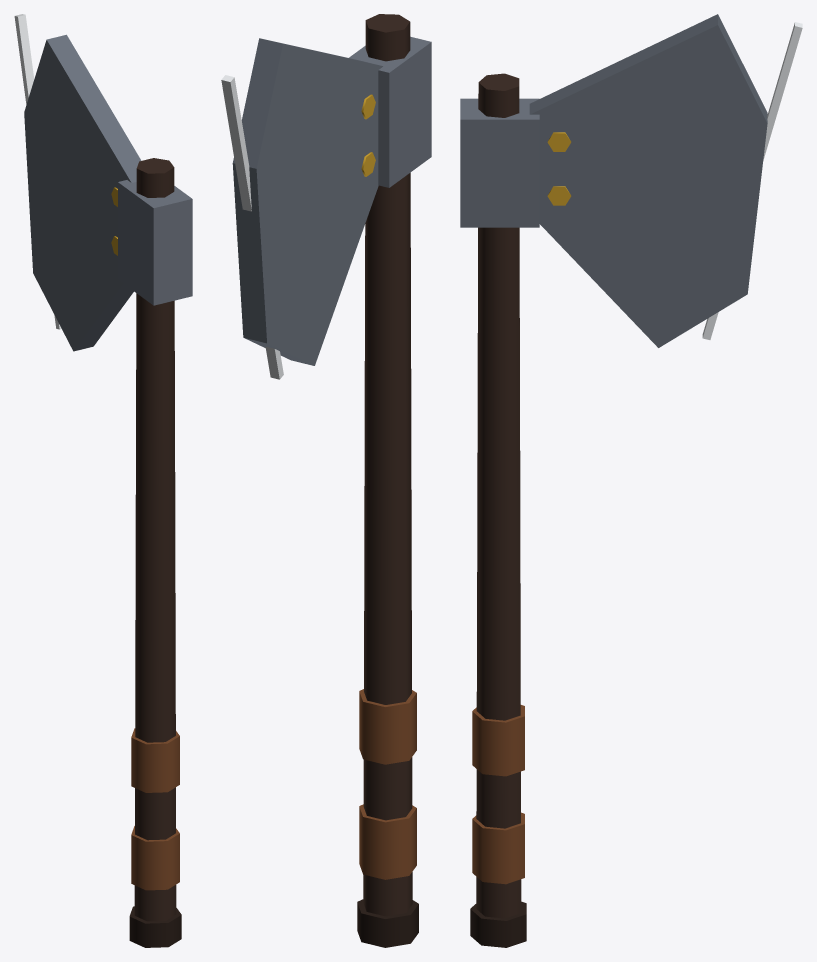
File: tool_greataxe.glb
The picture shows the model from 3 angles, left to right: view 1: azimuth 30°, elevation 25°; view 2: azimuth 150°, elevation 25°; view 3: azimuth 270°, elevation 25°; orthographic projection. The views are drawn at different scales.
Visible parts, largest first — view 1: _MeshInstance3D_928, _MeshInstance3D_923, _MeshInstance3D_927, _MeshInstance3D_926, _MeshInstance3D_925, _MeshInstance3D_924, _MeshInstance3D_929; view 2: _MeshInstance3D_928, _MeshInstance3D_923, _MeshInstance3D_927, _MeshInstance3D_926, _MeshInstance3D_925, _MeshInstance3D_929, _MeshInstance3D_924; view 3: _MeshInstance3D_928, _MeshInstance3D_923, _MeshInstance3D_927, _MeshInstance3D_926, _MeshInstance3D_925, _MeshInstance3D_924, _MeshInstance3D_929.
Part boxes in pixels (x1,y1,x2,y2): _MeshInstance3D_928: (24,34,141,351); _MeshInstance3D_923: (134,158,176,921); _MeshInstance3D_927: (118,180,192,305); _MeshInstance3D_926: (131,728,179,792); _MeshInstance3D_925: (131,826,179,890); _MeshInstance3D_924: (129,906,181,947); _MeshInstance3D_929: (14,14,61,329); _MeshInstance3D_928: (232,38,382,365); _MeshInstance3D_923: (363,14,412,916); _MeshInstance3D_927: (349,36,431,187); _MeshInstance3D_926: (359,689,416,764); _MeshInstance3D_925: (359,804,416,879); _MeshInstance3D_929: (221,75,283,379); _MeshInstance3D_924: (357,899,418,947); _MeshInstance3D_928: (529,14,767,347); _MeshInstance3D_923: (476,73,521,918); _MeshInstance3D_927: (460,98,539,227); _MeshInstance3D_926: (472,705,524,776); _MeshInstance3D_925: (472,812,524,884); _MeshInstance3D_924: (470,901,526,947); _MeshInstance3D_929: (702,22,802,339).
Size of the model in its own units: 0.0585 by 1.02 by 0.3455.
